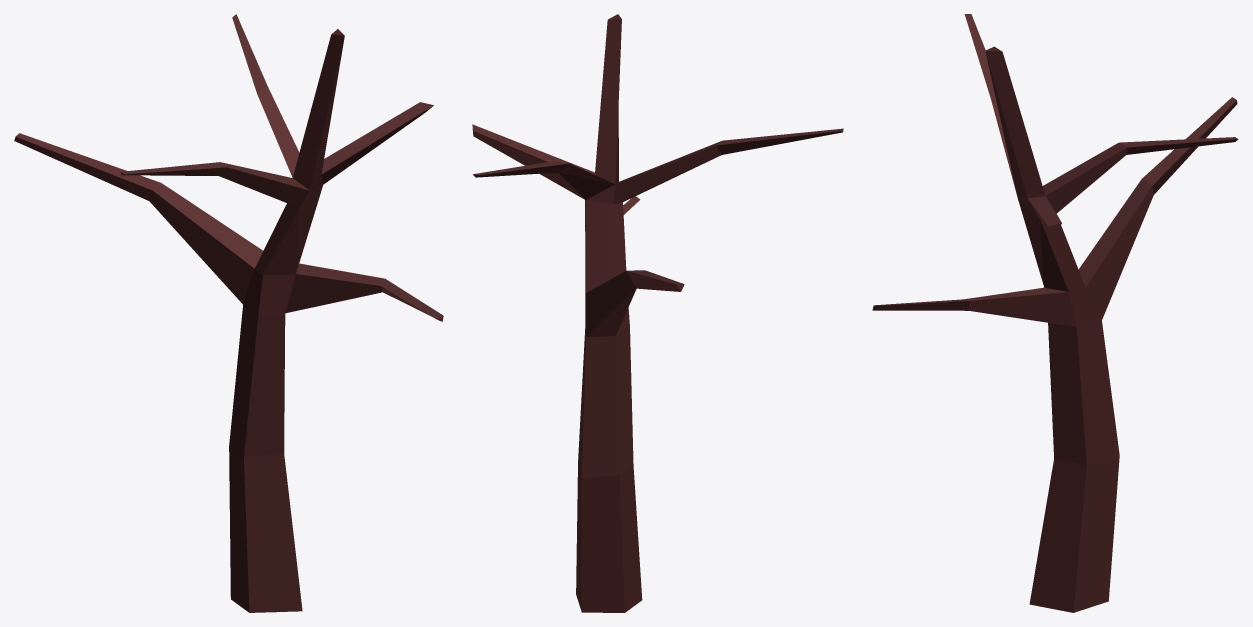
Rendered from TreeAutumn7_Alt2.fbx.
3 views of the same model, side by side, from view 1: azimuth 30°, elevation 25°; view 2: azimuth 150°, elevation 25°; view 3: azimuth 270°, elevation 25° (orthographic). The views are drawn at different scales.
Parts seen in each view (by area): view 1: TreeAutumn7_Alt2; view 2: TreeAutumn7_Alt2; view 3: TreeAutumn7_Alt2.
Part boxes in pixels (x1,y1,x2,y2): TreeAutumn7_Alt2: (14,14,443,612); TreeAutumn7_Alt2: (472,14,843,612); TreeAutumn7_Alt2: (872,14,1238,612).
Bounding box in the file's own units: 1.29 × 2.04 × 1.2.
